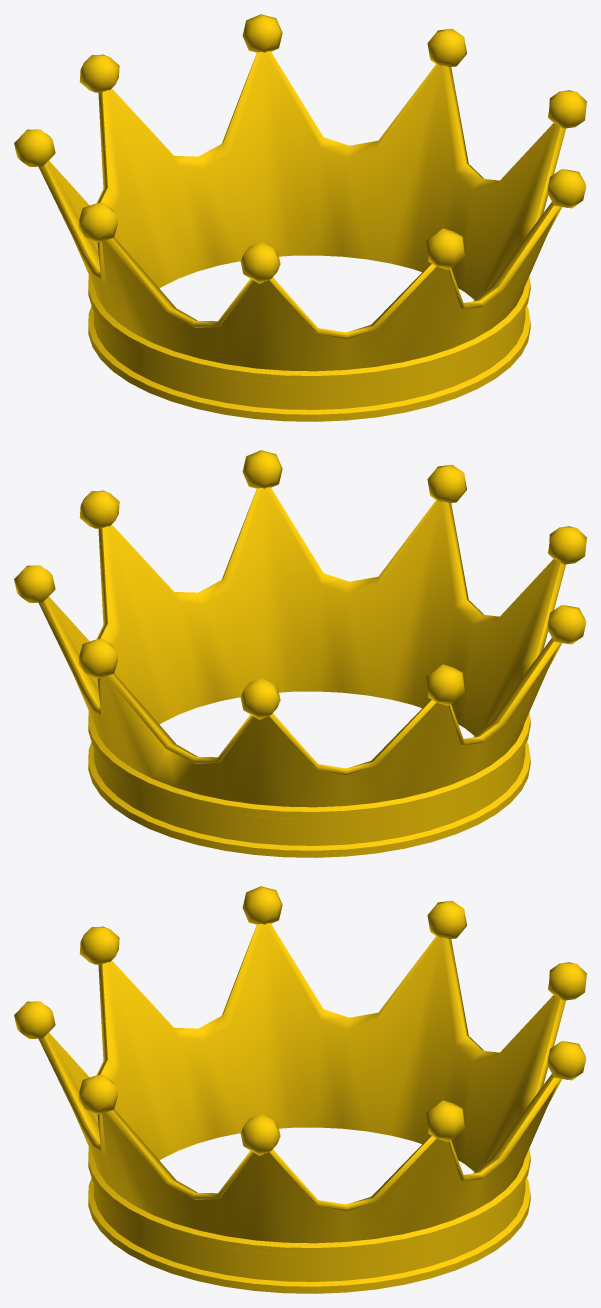
The model's file is Hat_35_01.fbx.
3 views of the same model, one above another, from view 1: azimuth 30°, elevation 25°; view 2: azimuth 150°, elevation 25°; view 3: azimuth 270°, elevation 25° (orthographic).
Visible parts, largest first — view 1: Hat_35_01; view 2: Hat_35_01; view 3: Hat_35_01.
Part boxes in pixels (<box>): Hat_35_01: <box>14,14,586,421</box>; Hat_35_01: <box>14,450,586,857</box>; Hat_35_01: <box>14,886,586,1293</box>.
Bounding box in the file's own units: 48.35 × 18.62 × 47.64.
